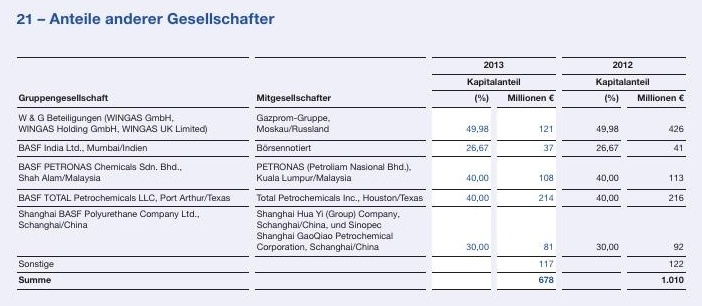table: (0, 0, 702, 306)
